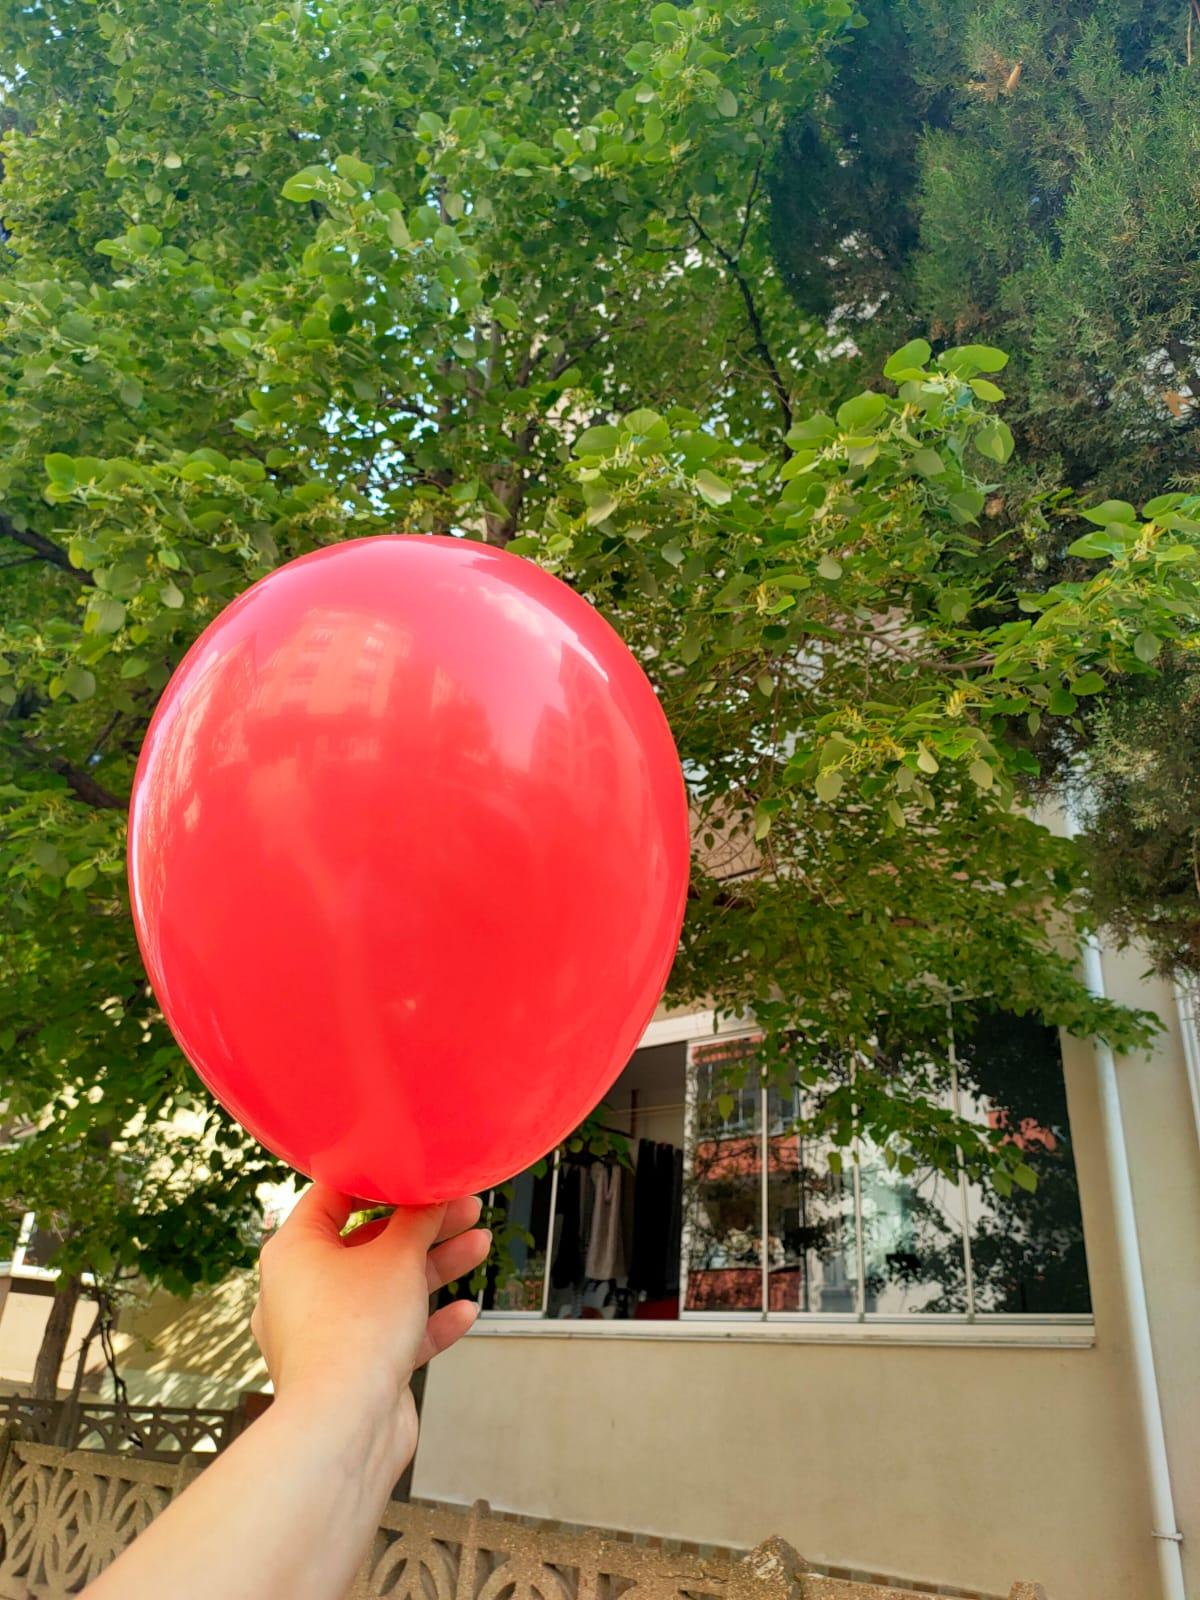red: (117, 524, 701, 1222)
